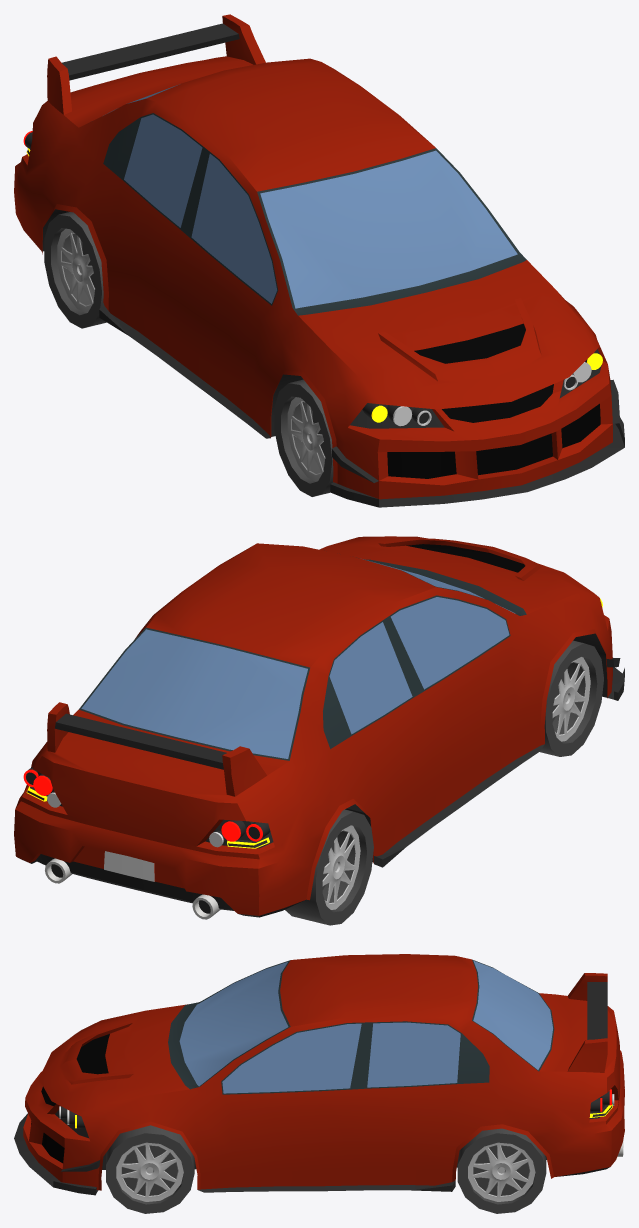
File: mitsubishi.fbx
3 renders of one model, top to bottom at view 1: azimuth 30°, elevation 25°; view 2: azimuth 150°, elevation 25°; view 3: azimuth 270°, elevation 25°, orthographic. The views are drawn at different scales.
Visible parts, largest first — view 1: car_mitsubishi, wheel_br_mitsubishi, wheel_fr_mitsubishi; view 2: car_mitsubishi, wheel_br_mitsubishi, wheel_fr_mitsubishi; view 3: car_mitsubishi, wheel_fl_mitsubishi, wheel_bl_mitsubishi.
Boxes of the visible parts, x1,y1,x2,y2 form: car_mitsubishi: (14, 14, 624, 507); wheel_br_mitsubishi: (44, 212, 106, 328); wheel_fr_mitsubishi: (274, 379, 333, 496); car_mitsubishi: (14, 536, 624, 919); wheel_br_mitsubishi: (285, 809, 373, 925); wheel_fr_mitsubishi: (540, 640, 603, 756); car_mitsubishi: (14, 954, 624, 1195); wheel_fl_mitsubishi: (106, 1125, 194, 1213); wheel_bl_mitsubishi: (457, 1128, 546, 1213).
Size of the model in its own units: 204 by 162 by 490.
